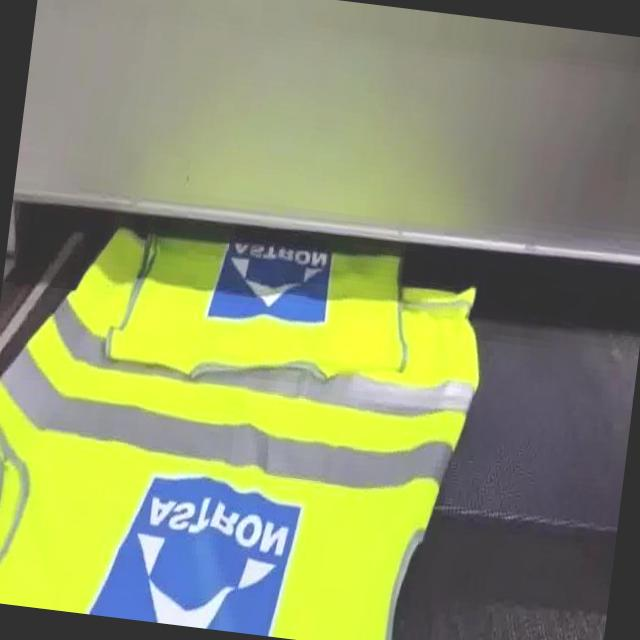vest: (0, 215, 491, 640)
